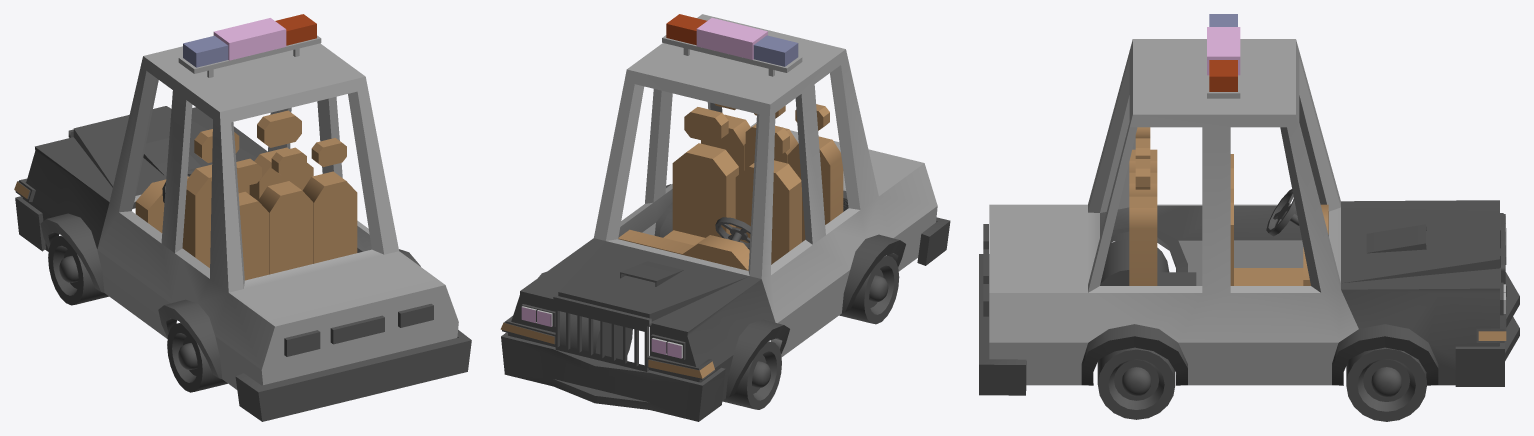
Rendered from PoliceCar.fbx.
3 renders of one model, left to right at view 1: azimuth 30°, elevation 25°; view 2: azimuth 150°, elevation 25°; view 3: azimuth 270°, elevation 25°, orthographic. The views are drawn at different scales.
Parts seen in each view (by area): view 1: polySurface107; view 2: polySurface107; view 3: polySurface107.
Part boxes in pixels (box(x1,y1,x2,y2)): polySurface107: box(14, 14, 471, 421); polySurface107: box(500, 14, 950, 421); polySurface107: box(979, 14, 1519, 421).
Bounding box in the file's own units: 3.92 × 4.87 × 7.38.
